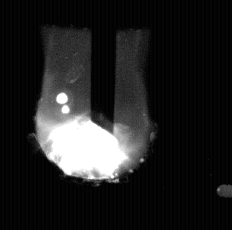arame: (92, 0, 115, 136)
poca: (37, 0, 149, 230)
